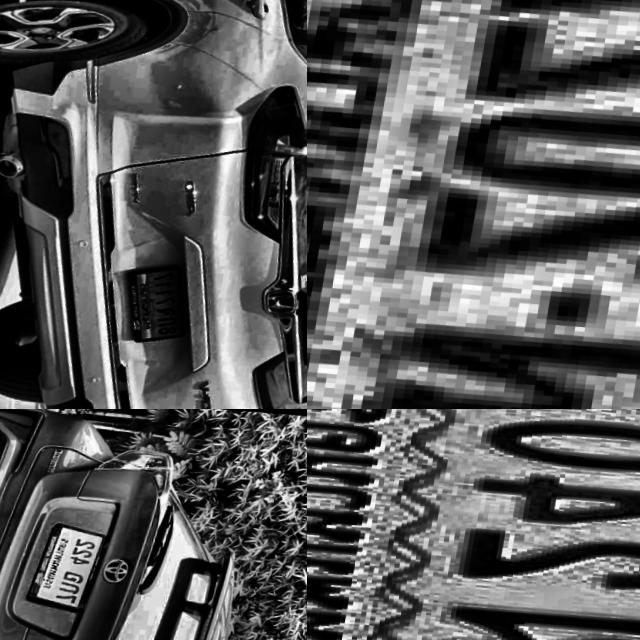license-plate: (307, 0, 640, 409), (307, 409, 640, 640), (115, 260, 210, 354), (29, 523, 109, 619)
